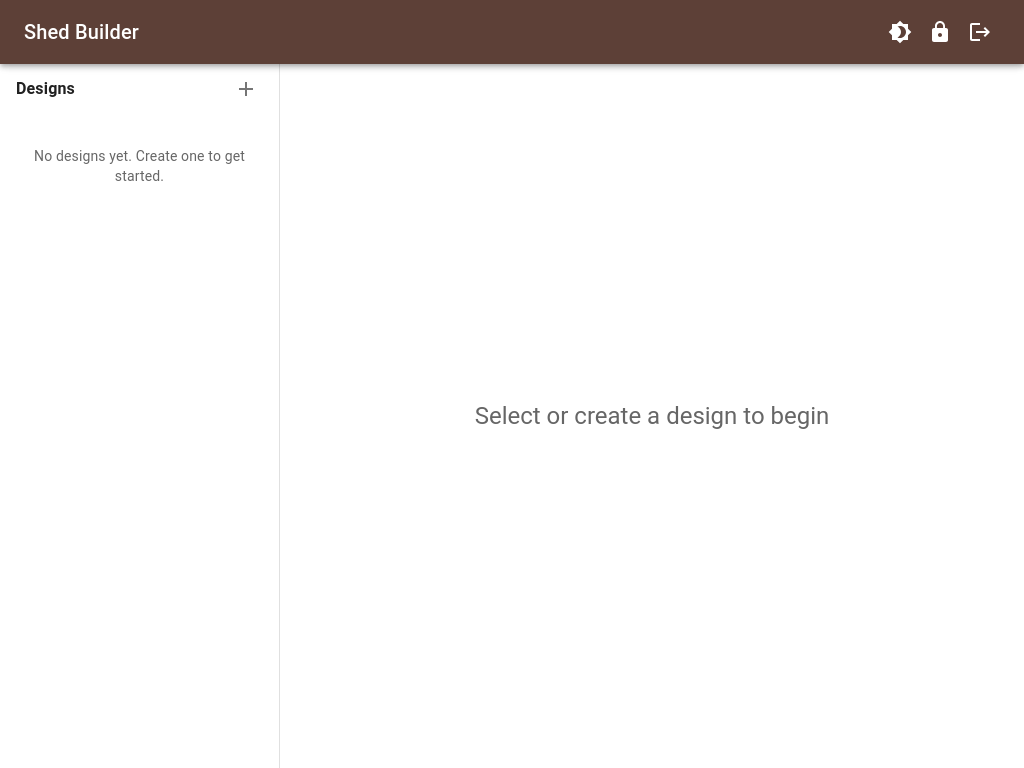
it: App › opens change password dialog
Click the button named "Change password".
click(940, 32)  # box [920,12,960,52]
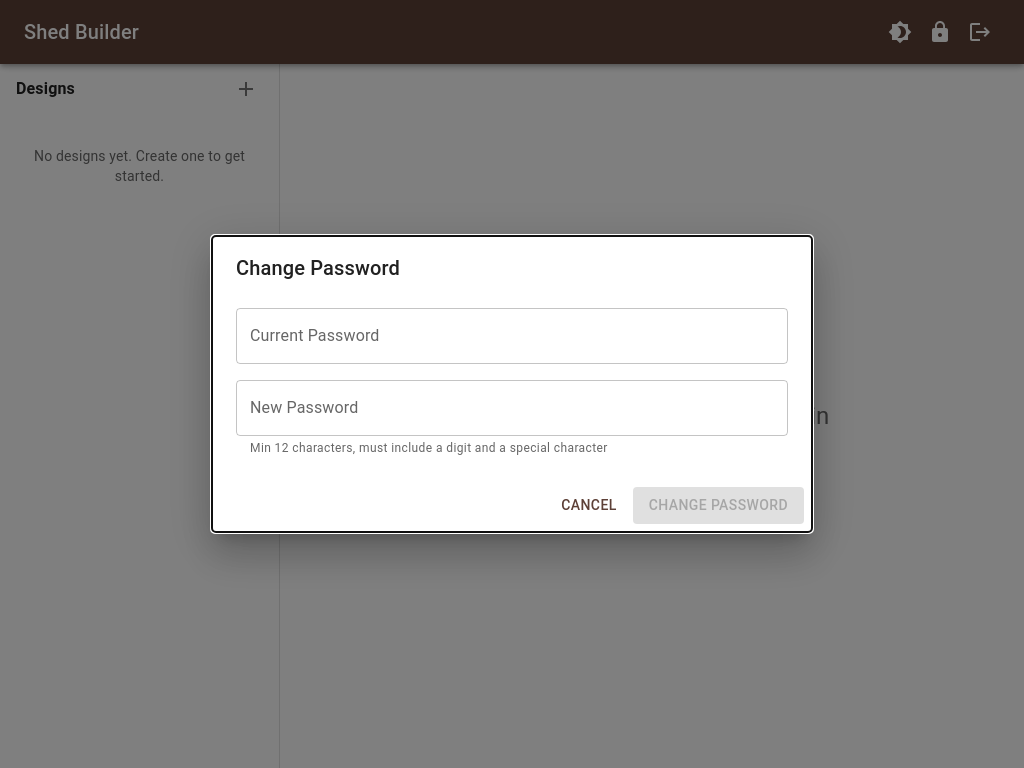
Check: the password field labelled "Current Password" is shown, box [236,308,788,364]
Check: the password field labelled "New Password" is shown, box [236,380,788,436]
Check: the button "Change Password" is shown, box [633,487,804,524]
